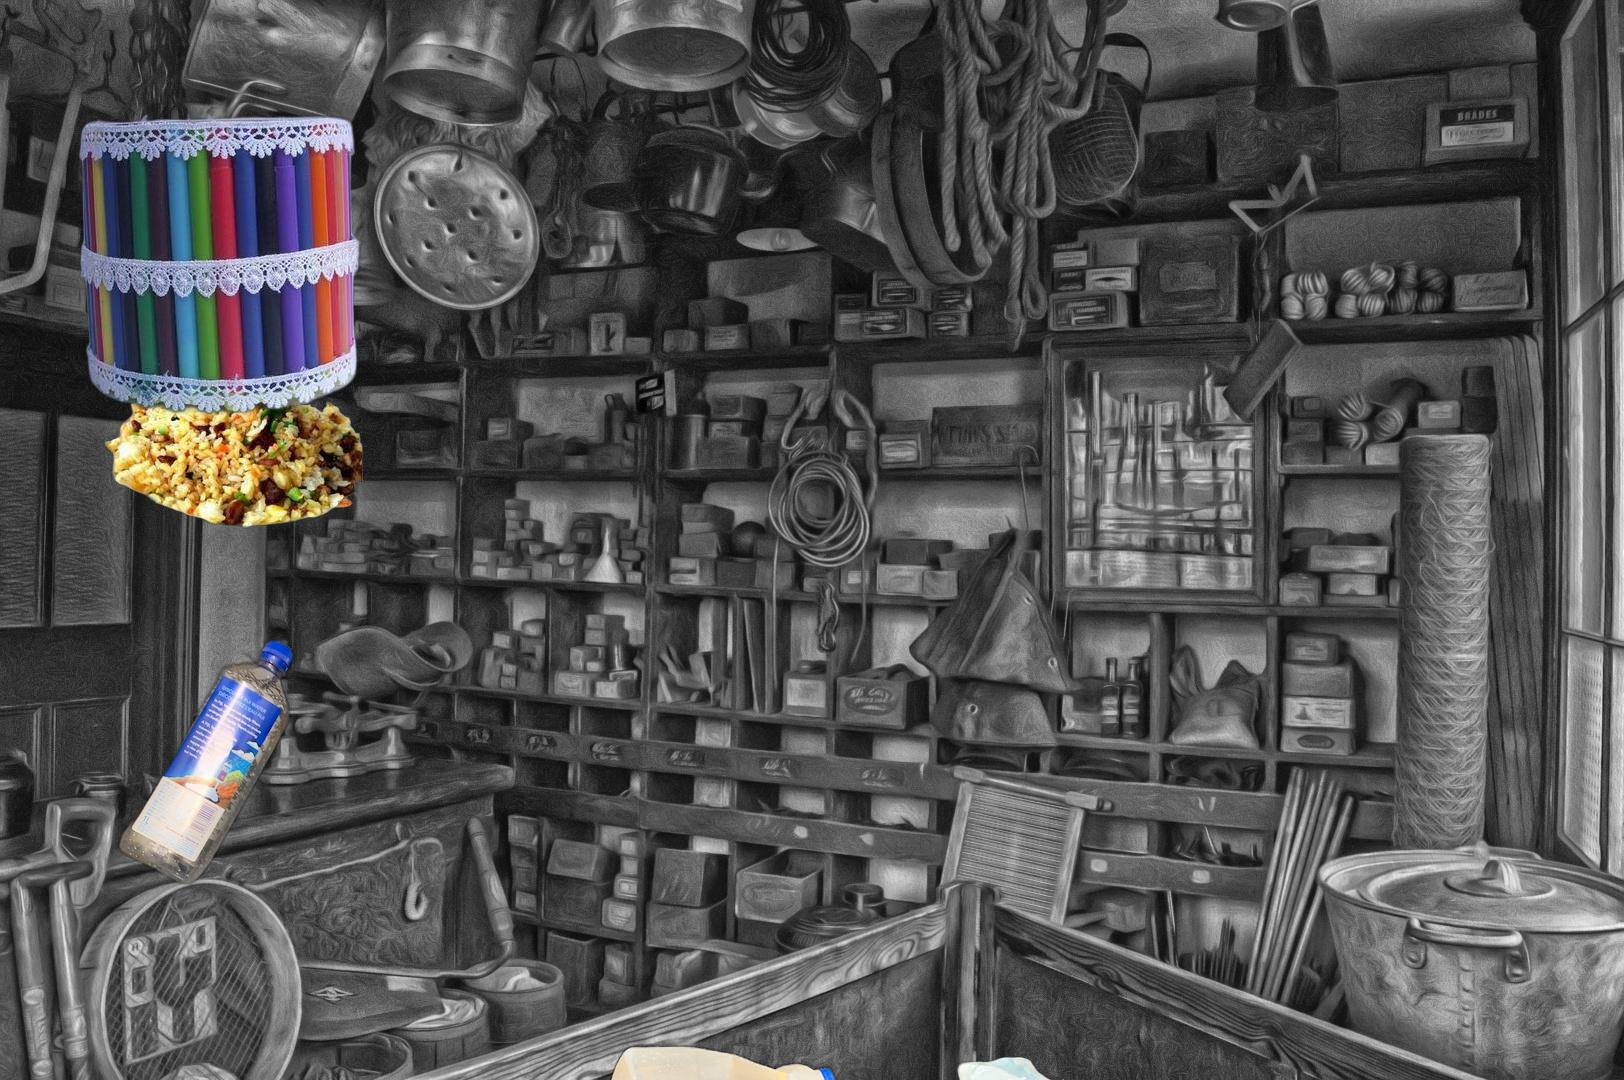biological: (102, 352, 367, 530)
penholder: (75, 111, 367, 415)
plastic-bottles: (114, 634, 299, 890), (604, 1039, 846, 1080)
trash: (953, 1053, 1158, 1080)
